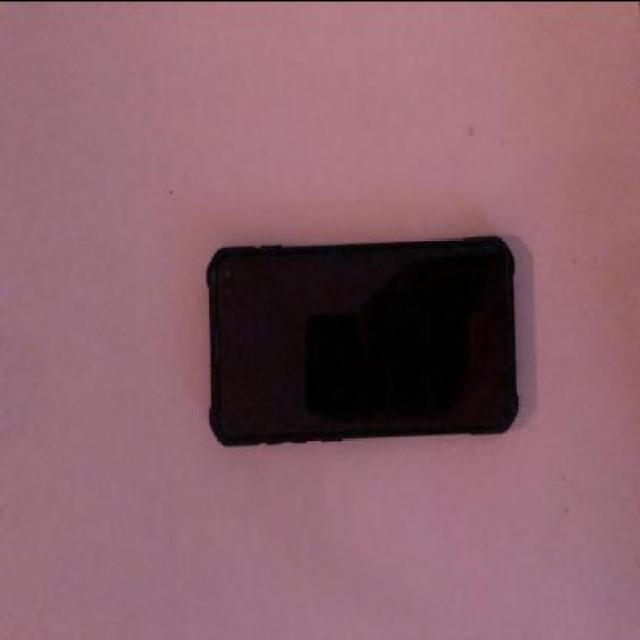phone: (204, 233, 521, 445)
